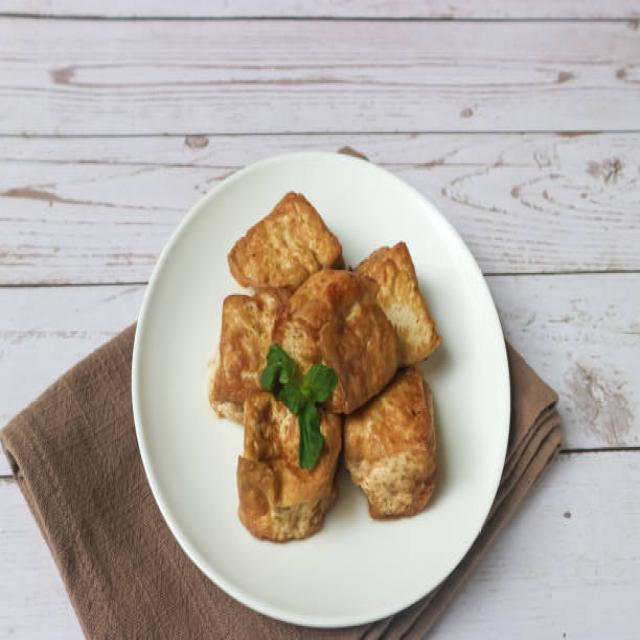Tofu Block: (343, 372, 442, 521), (222, 192, 347, 296)
